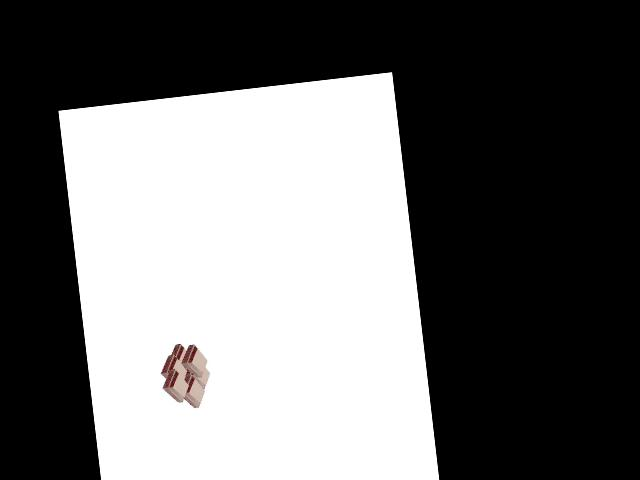chocolate: (159, 338, 215, 410)
